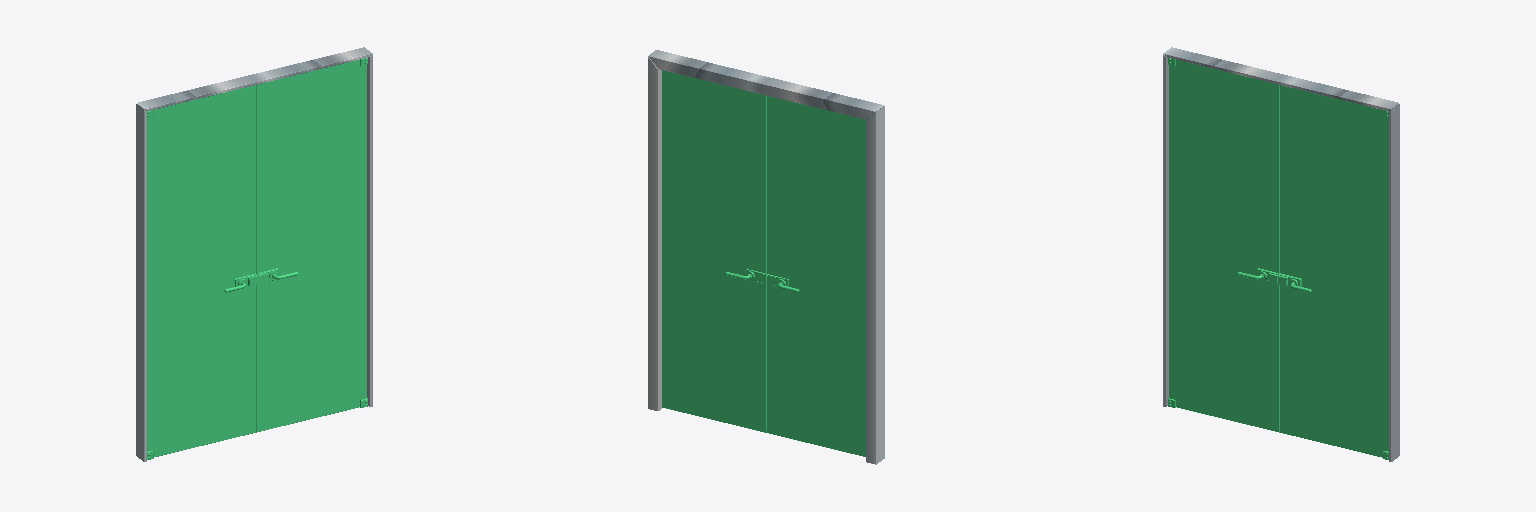
3 views of the same model, side by side, from view 1: azimuth 30°, elevation 25°; view 2: azimuth 150°, elevation 25°; view 3: azimuth 330°, elevation 25° (orthographic).
Visible parts, largest first — view 1: Door01, Door, FR; view 2: Door01, Door, FR; view 3: Door, Door01, FR.
Part boxes in pixels (left/top/right/bottom): Door01: left=256, top=58, right=367, bottom=432; Door: left=147, top=85, right=258, bottom=459; FR: left=136, top=47, right=372, bottom=461; Door01: left=662, top=70, right=766, bottom=432; Door: left=767, top=96, right=866, bottom=456; FR: left=648, top=50, right=884, bottom=464; Door: left=1168, top=58, right=1279, bottom=432; Door01: left=1278, top=85, right=1388, bottom=459; FR: left=1163, top=47, right=1399, bottom=461.
Bounding box in the file's own units: 156 × 230 × 14.99.
2 materials, 1 textured.